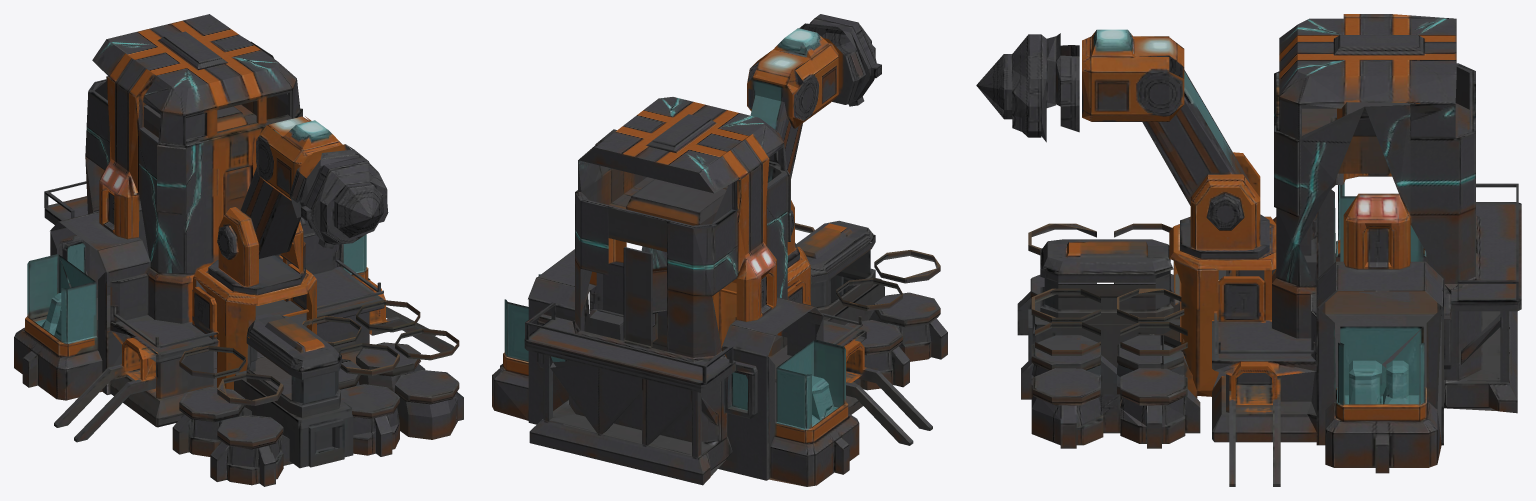
3 renders of one model, left to right at view 1: azimuth 30°, elevation 25°; view 2: azimuth 150°, elevation 25°; view 3: azimuth 270°, elevation 25°, orthographic. The views are drawn at different scales.
Parts seen in each view (by area): view 1: tripo_node_2452cb83-3728-40e1-ba23-a2e600d30c10; view 2: tripo_node_2452cb83-3728-40e1-ba23-a2e600d30c10; view 3: tripo_node_2452cb83-3728-40e1-ba23-a2e600d30c10.
Boxes of the visible parts, bbox=[...] form: tripo_node_2452cb83-3728-40e1-ba23-a2e600d30c10: bbox=[14, 14, 463, 486]; tripo_node_2452cb83-3728-40e1-ba23-a2e600d30c10: bbox=[492, 14, 947, 486]; tripo_node_2452cb83-3728-40e1-ba23-a2e600d30c10: bbox=[976, 14, 1521, 486].
Size of the model in its own units: 0.8983 by 0.6986 by 1.
1 material, 1 textured.
